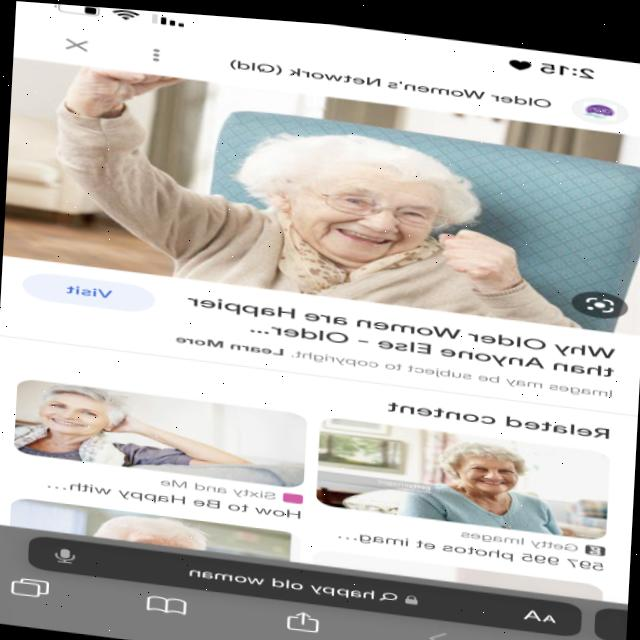happy: (282, 160, 452, 263)
